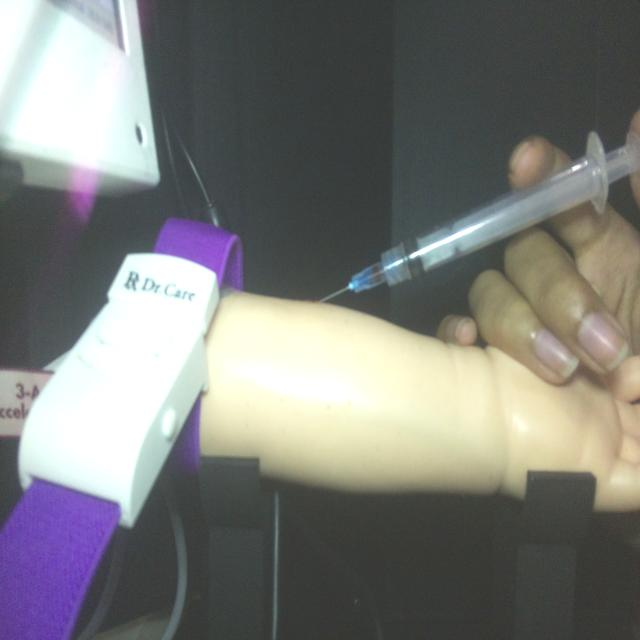17 degrees: (316, 128, 637, 306)
